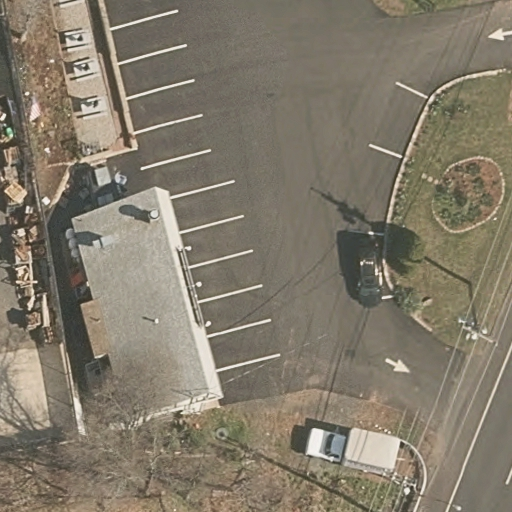DT: (455, 284, 501, 357)
